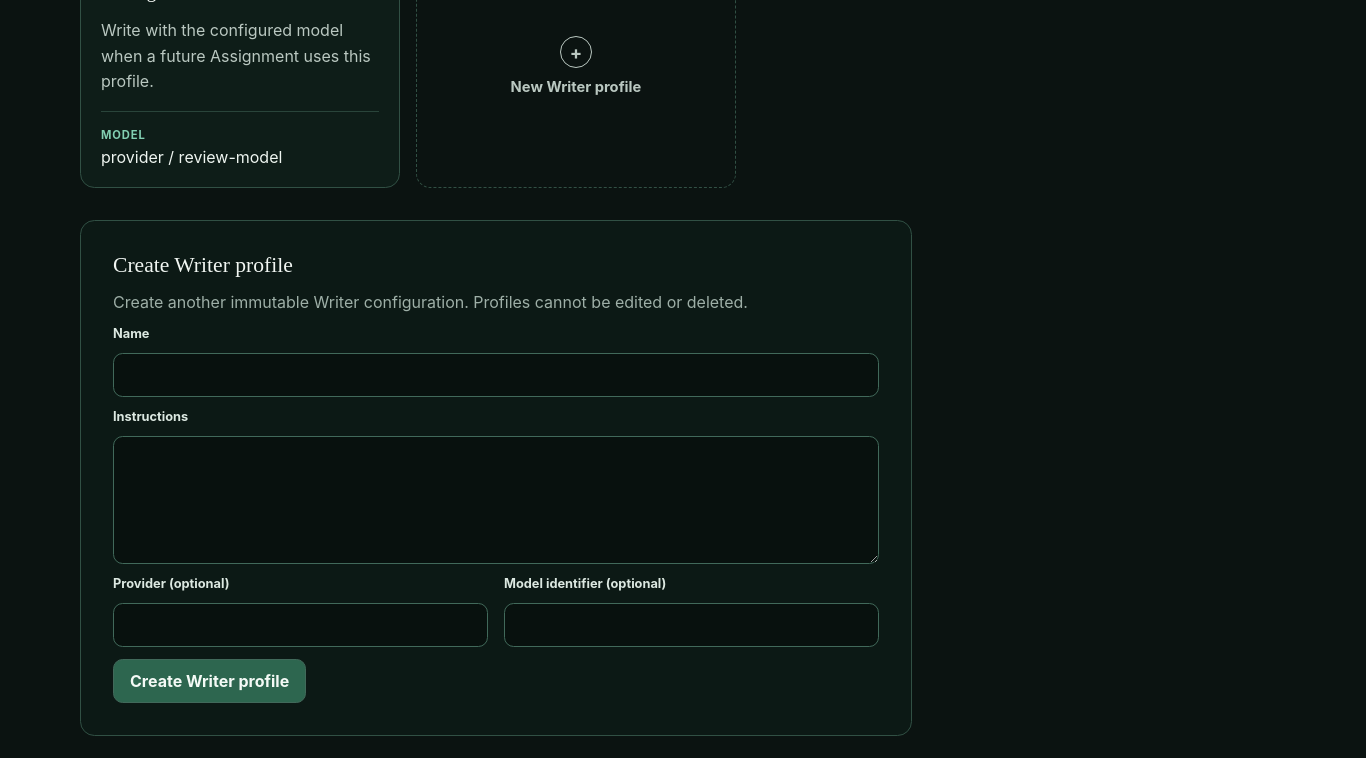
Test: AgentProfilesWorkspace › posts provider and model together
This screenshot has width=1366, height=758.
(page scrolled)
Type "Model Writer" into the field labelled "Name" at [496, 375], box [113,352,879,397]
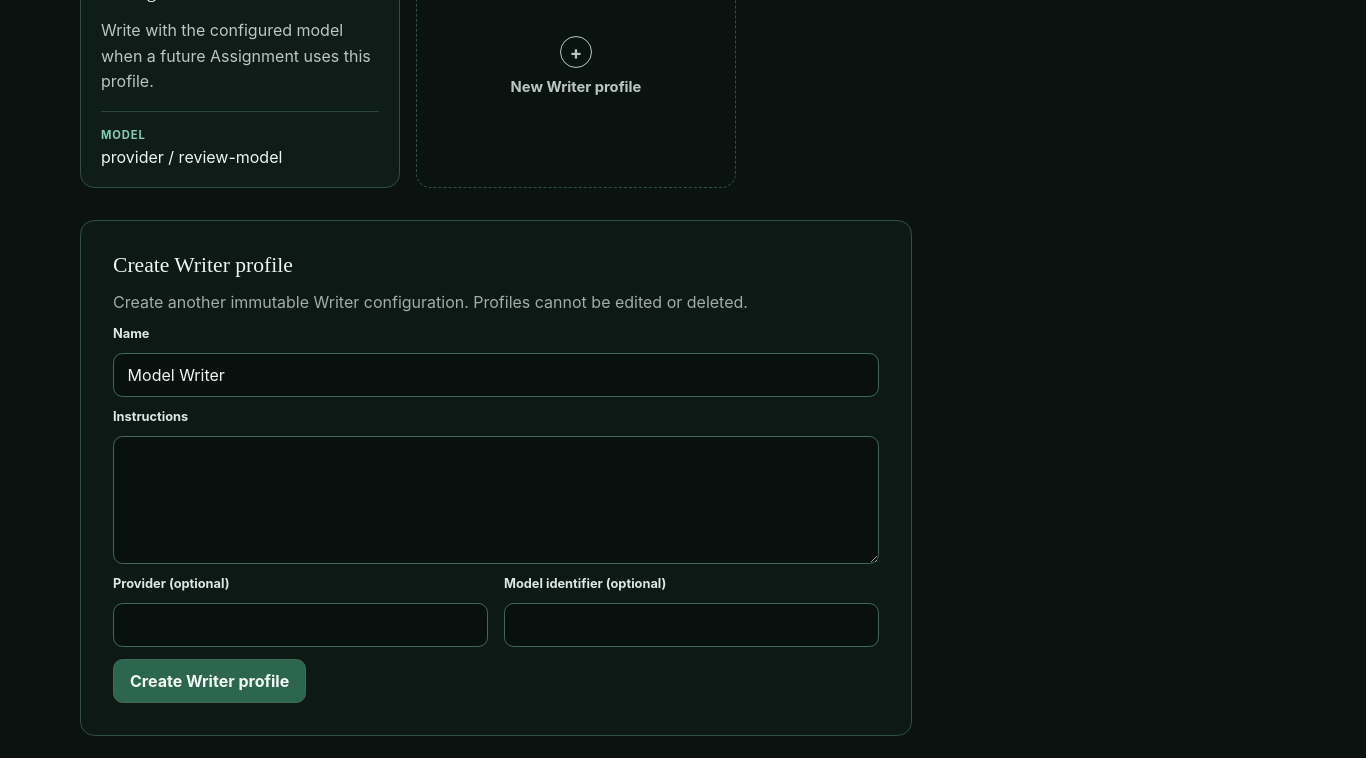
Type "Stay grounded." into the text box labelled "Instructions" at [496, 500], box [113,436,879,564]
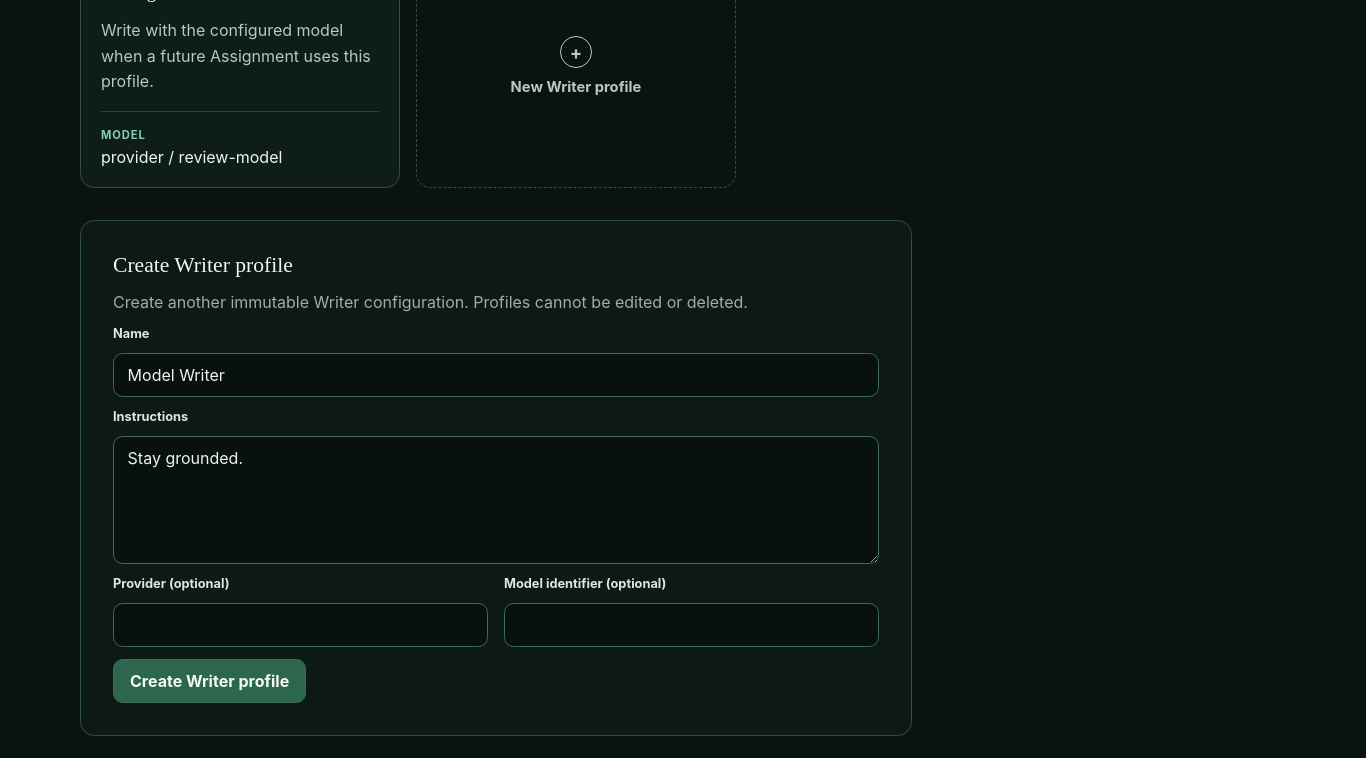
Type "provider" into the field labelled "Provider (optional)" at [300, 625], box [113,603,488,647]
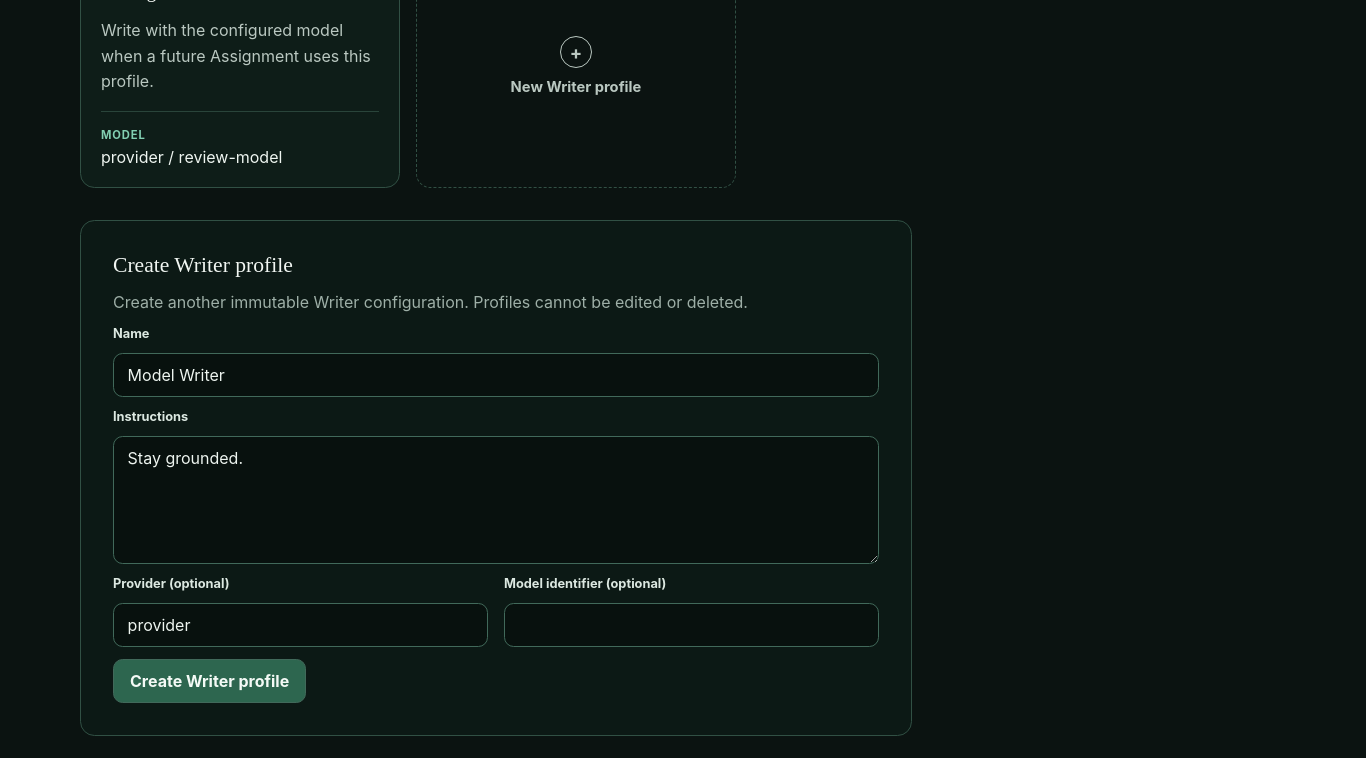
Type "model-id" into the field labelled "Model identifier (optional)" at [692, 625], box [504,603,879,647]
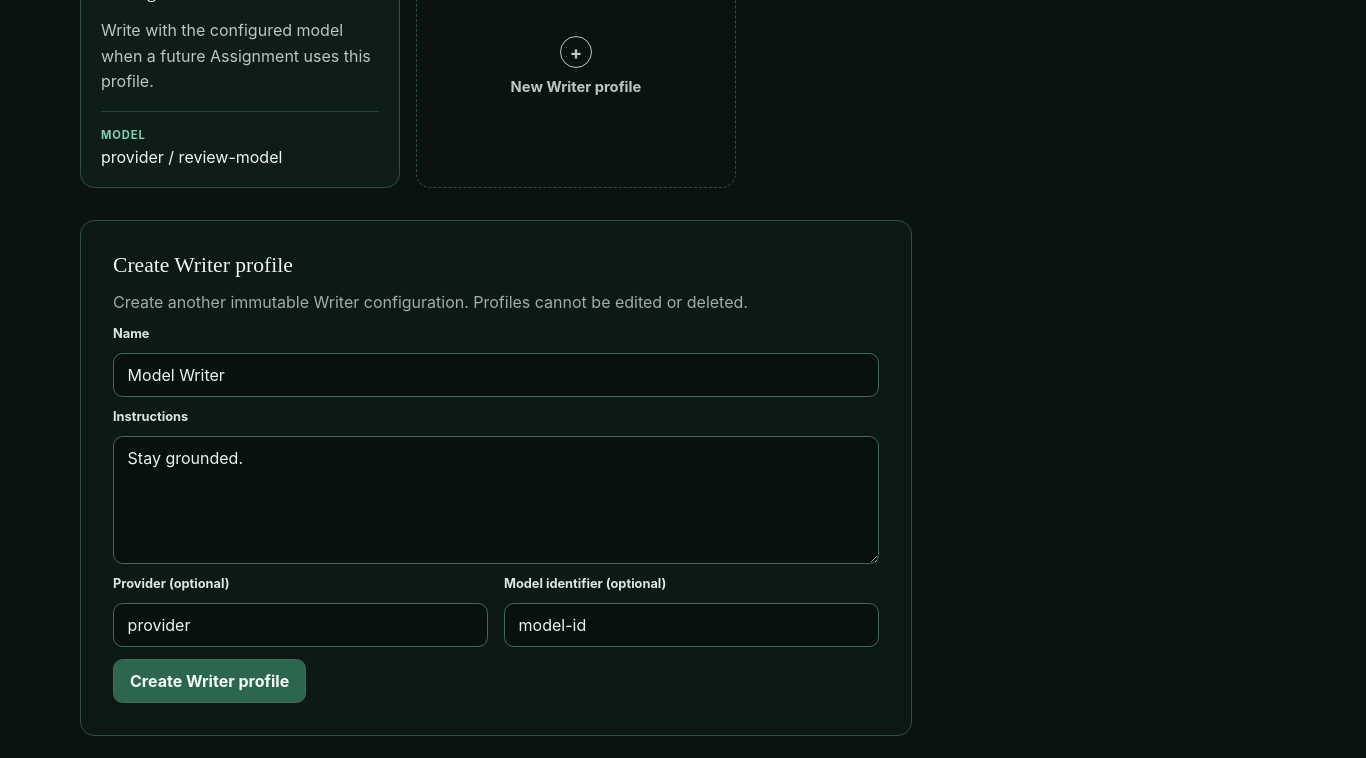
Click the button "Create Writer profile" at [210, 681], box [113,659,306,703]
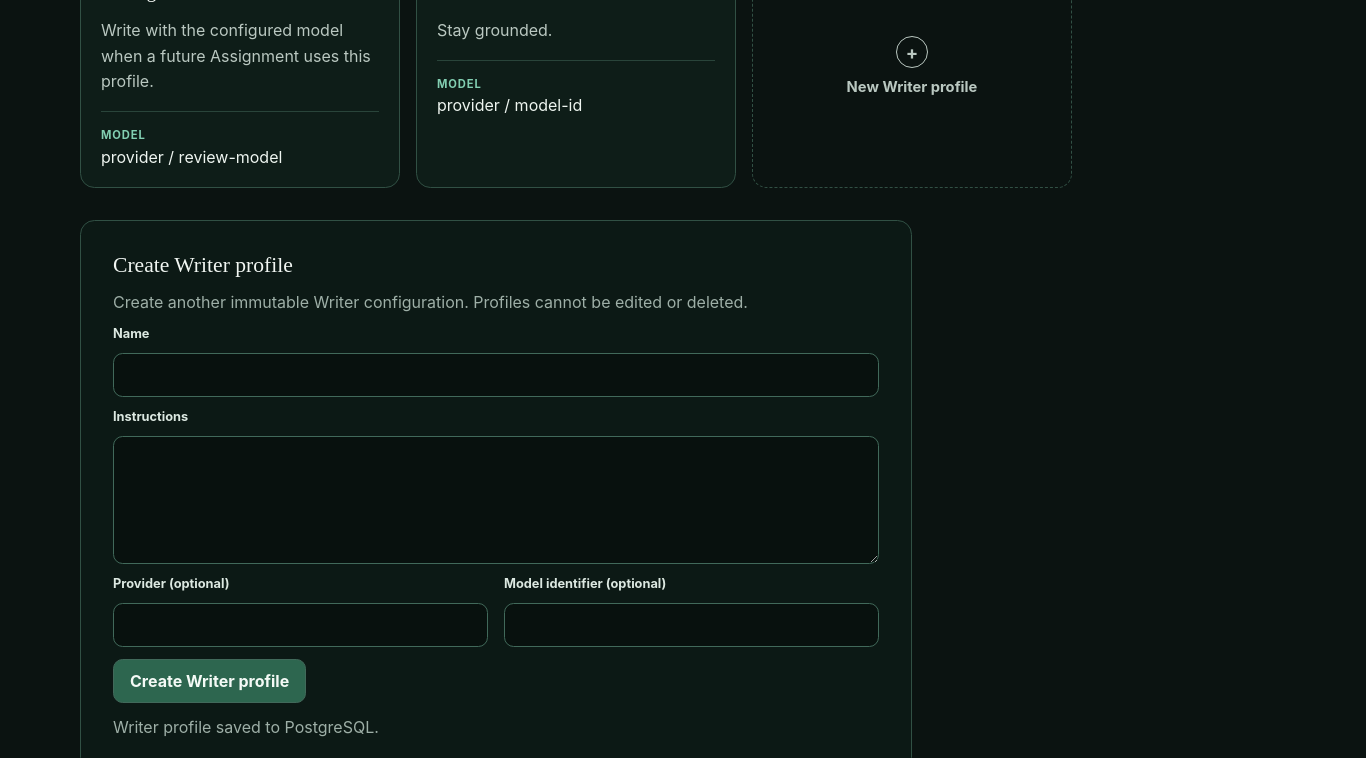
Now the text "provider / model-id" is shown, box [437,95,582,115]
